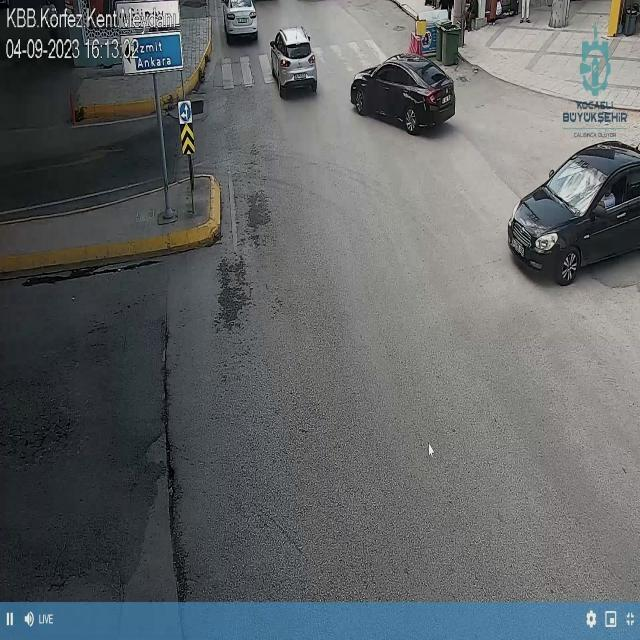Car: (507, 135, 640, 286), (352, 54, 460, 124), (272, 19, 321, 102), (220, 0, 260, 44)
